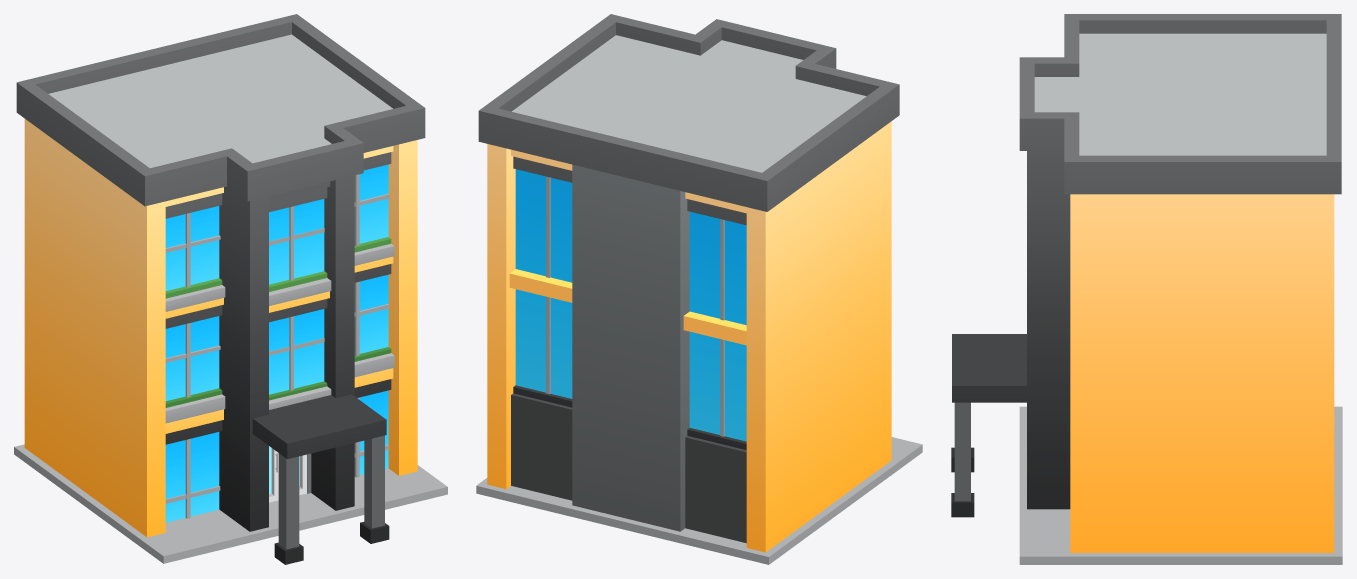
File: city2-building-hotel-08.glb
3 views of the same model, side by side, from view 1: azimuth 30°, elevation 25°; view 2: azimuth 150°, elevation 25°; view 3: azimuth 270°, elevation 25° (orthographic). The views are drawn at different scales.
Visible parts, largest first — view 1: Building_Hotel_08; view 2: Building_Hotel_08; view 3: Building_Hotel_08.
Part boxes in pixels (left/top/right/bottom): Building_Hotel_08: left=14, top=14, right=447, bottom=564; Building_Hotel_08: left=476, top=14, right=922, bottom=564; Building_Hotel_08: left=951, top=14, right=1342, bottom=564.
Size of the model in its own units: 8.22 by 10.27 by 9.06.
Materials: 1 (1 with a texture image).
